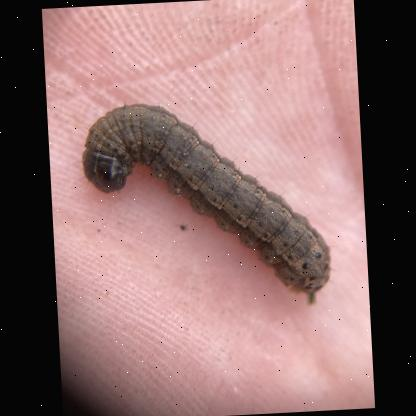Fall Armyworm Larvae: (71, 86, 342, 316)
